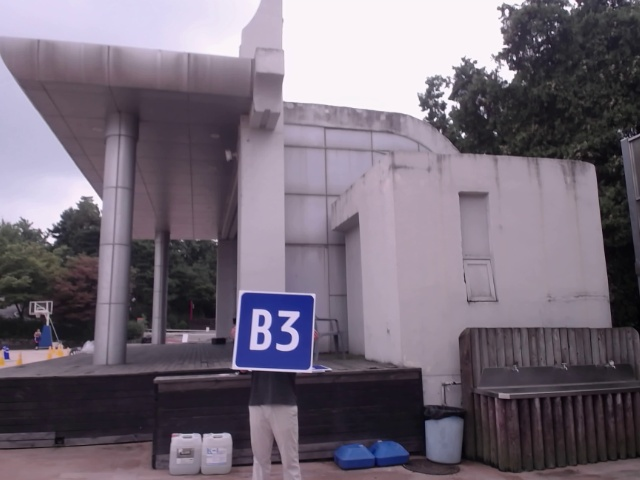delivery_b3: (238, 292, 315, 371)
